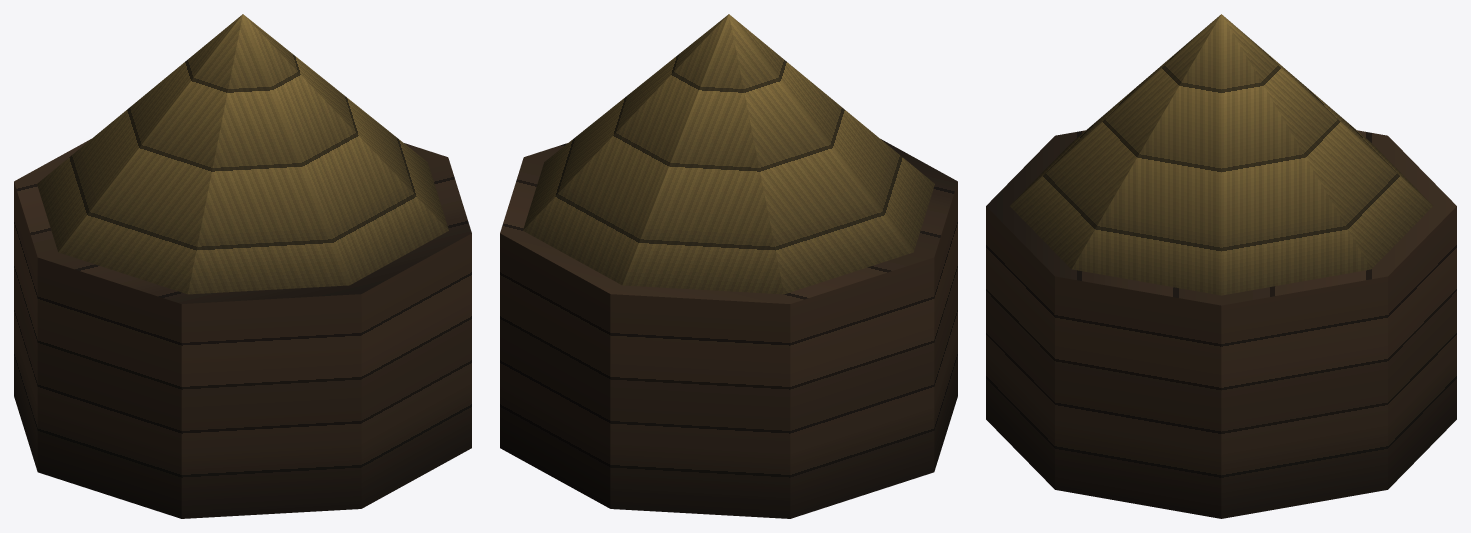
File: haystack.gltf
3 renders of one model, left to right at view 1: azimuth 30°, elevation 25°; view 2: azimuth 150°, elevation 25°; view 3: azimuth 270°, elevation 25°, orthographic.
Parts seen in each view (by area): view 1: haystack; view 2: haystack; view 3: haystack.
Part boxes in pixels (x1,y1,x2,y2): haystack: [14, 14, 471, 518]; haystack: [500, 14, 957, 518]; haystack: [986, 14, 1456, 518].
Size of the model in its own units: 1 by 0.95 by 1.
1 material, 1 textured.
